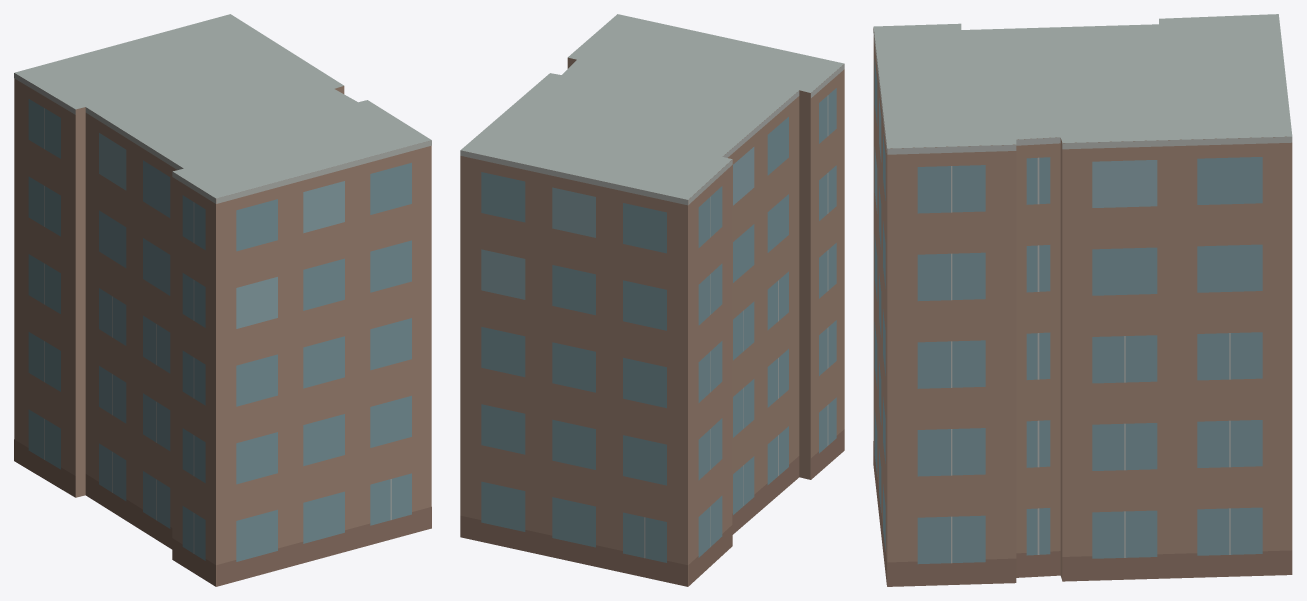
Rendered from survey-upis-32878347.glb.
The picture shows the model from 3 angles, left to right: view 1: azimuth 30°, elevation 25°; view 2: azimuth 150°, elevation 25°; view 3: azimuth 270°, elevation 25°; orthographic projection. The views are drawn at different scales.
Visible parts, largest first — view 1: survey-upis-32878347.tmp; view 2: survey-upis-32878347.tmp; view 3: survey-upis-32878347.tmp.
Boxes of the visible parts, bbox=[...] form: survey-upis-32878347.tmp: bbox=[14, 14, 431, 586]; survey-upis-32878347.tmp: bbox=[460, 14, 844, 586]; survey-upis-32878347.tmp: bbox=[873, 14, 1292, 586].
Bounding box in the file's own units: 11.33 × 17.2 × 14.91.
